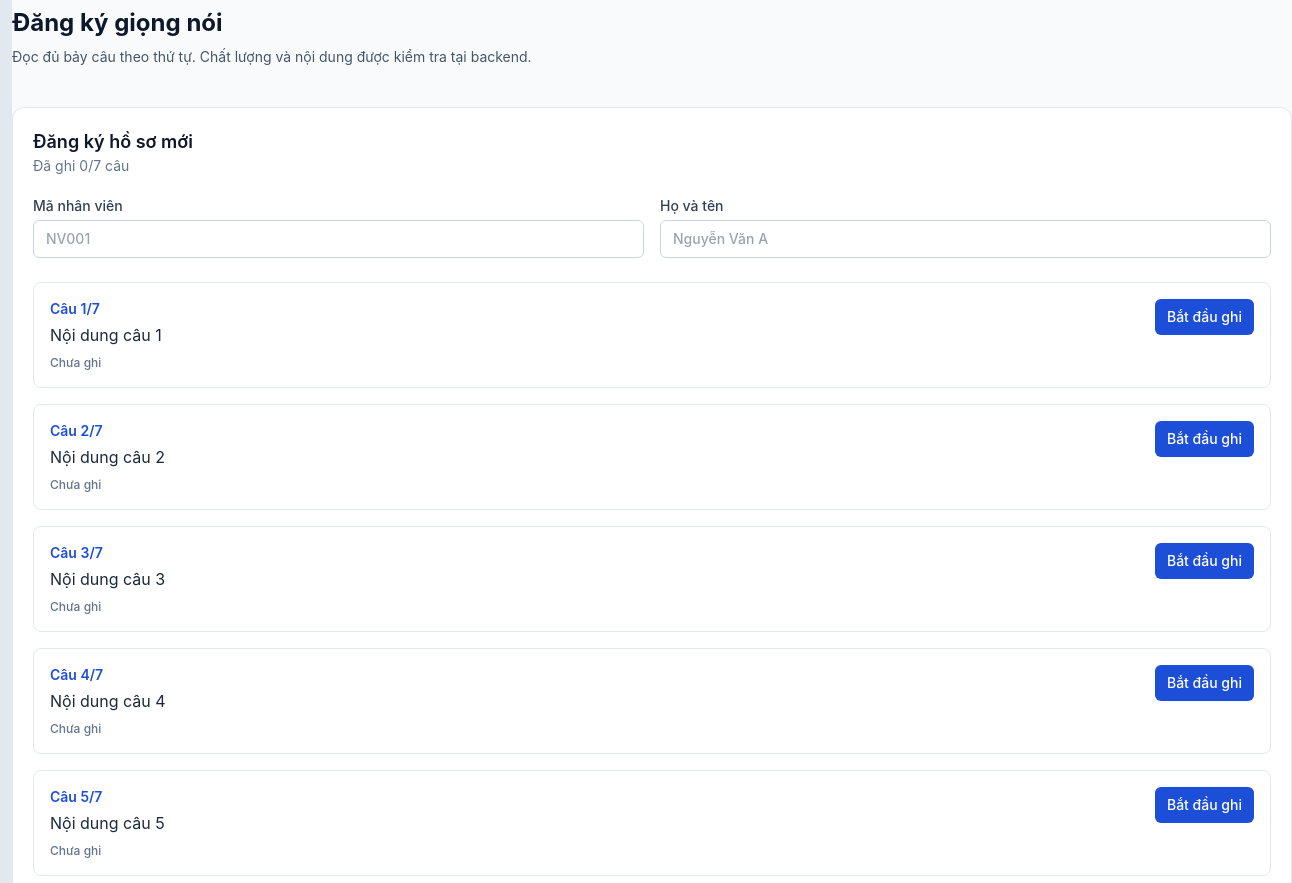
Enrollment page › keeps submit disabled when identity fields or recordings are missing
Expected: the text "Nội dung câu 1" is shown, [50,325,162,345]
Type "NV900" into the field labelled "Mã nhân viên" at (338, 239), box [33,220,644,258]
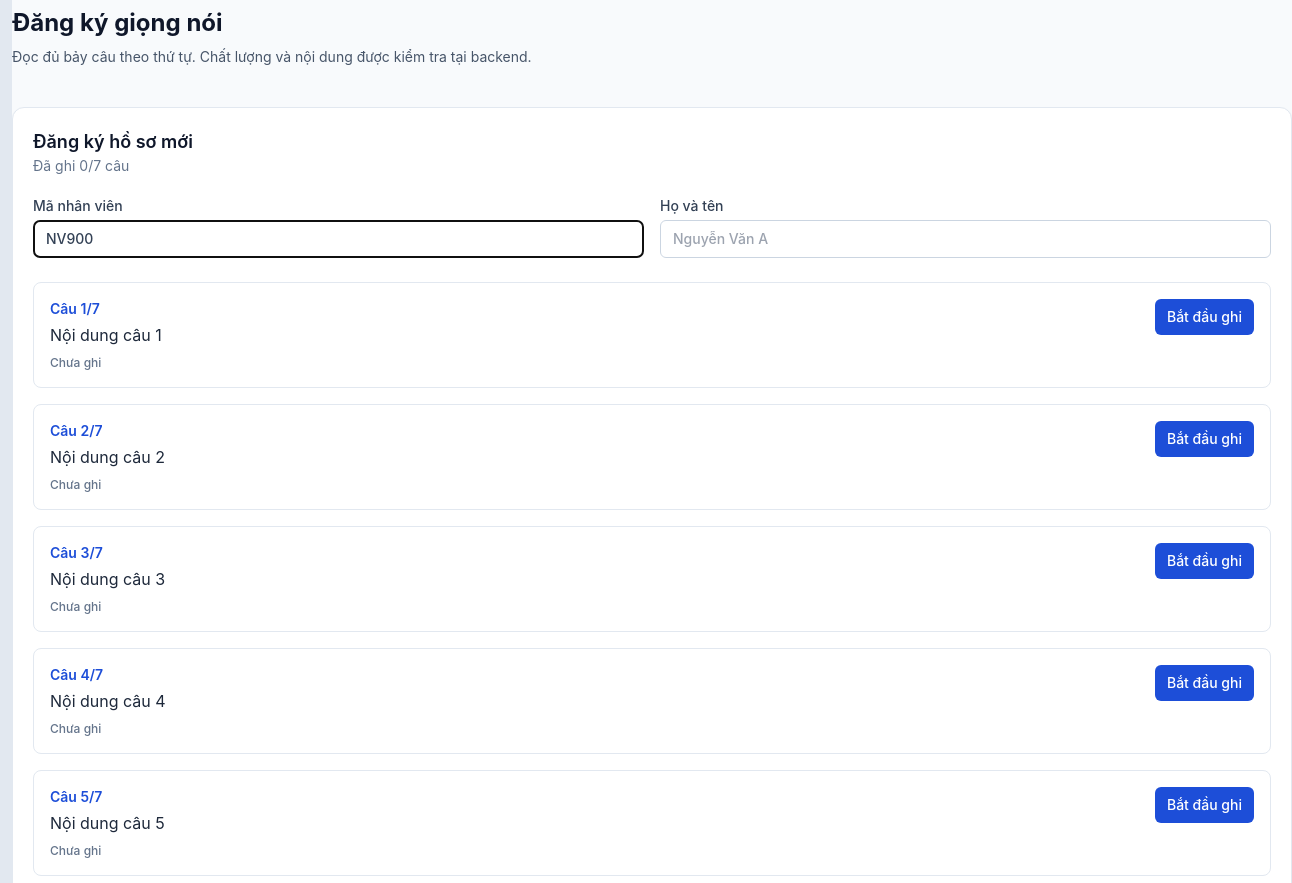
Type "Lê Minh" into the field labelled "Họ và tên" at (966, 239), box [660,220,1271,258]
(page scrolled)
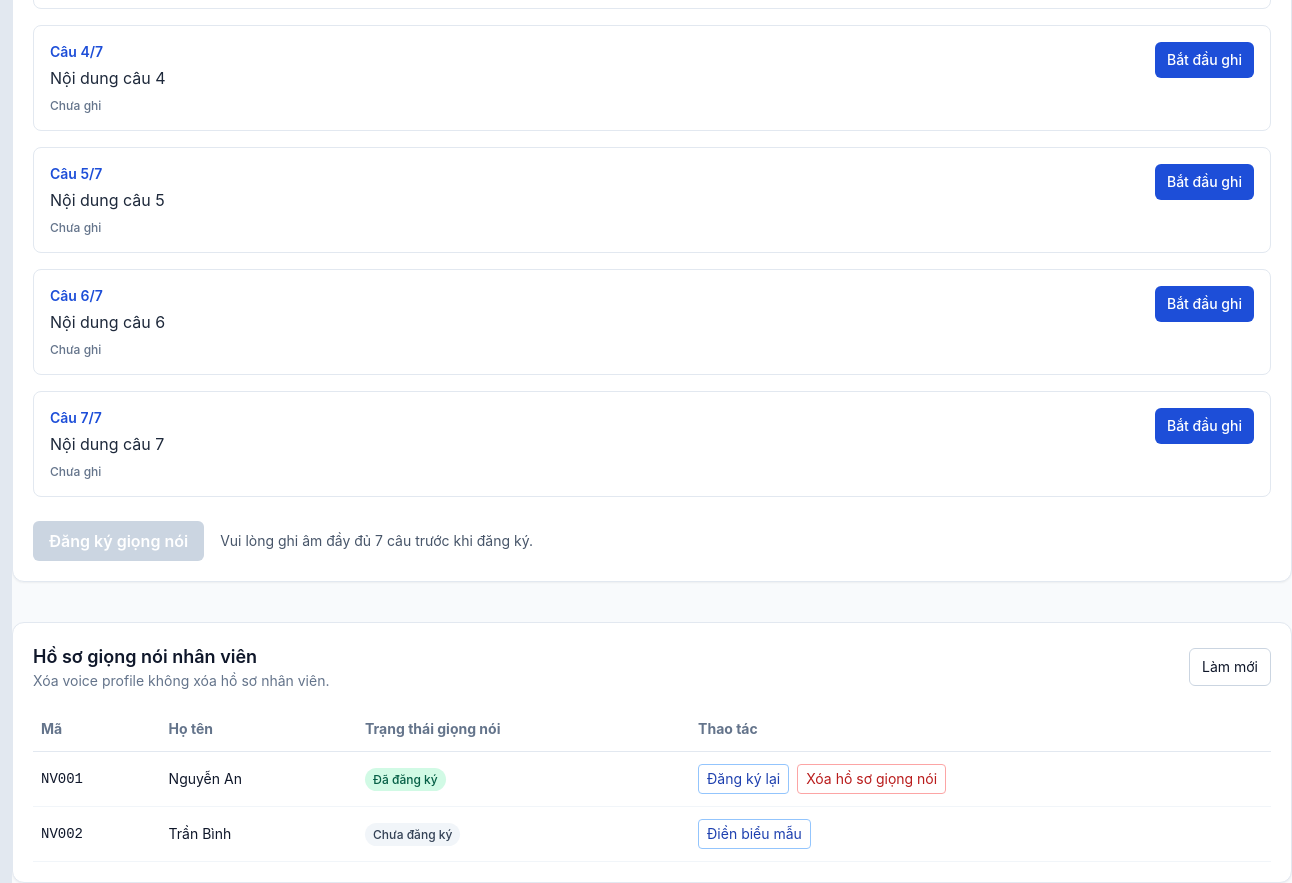
Expected: the button "Đăng ký giọng nói" is disabled, [33,521,204,561]
Expected: the text "Vui lòng ghi âm đầy đủ 7 câu trước khi đăng ký." is shown, [220,531,533,551]
